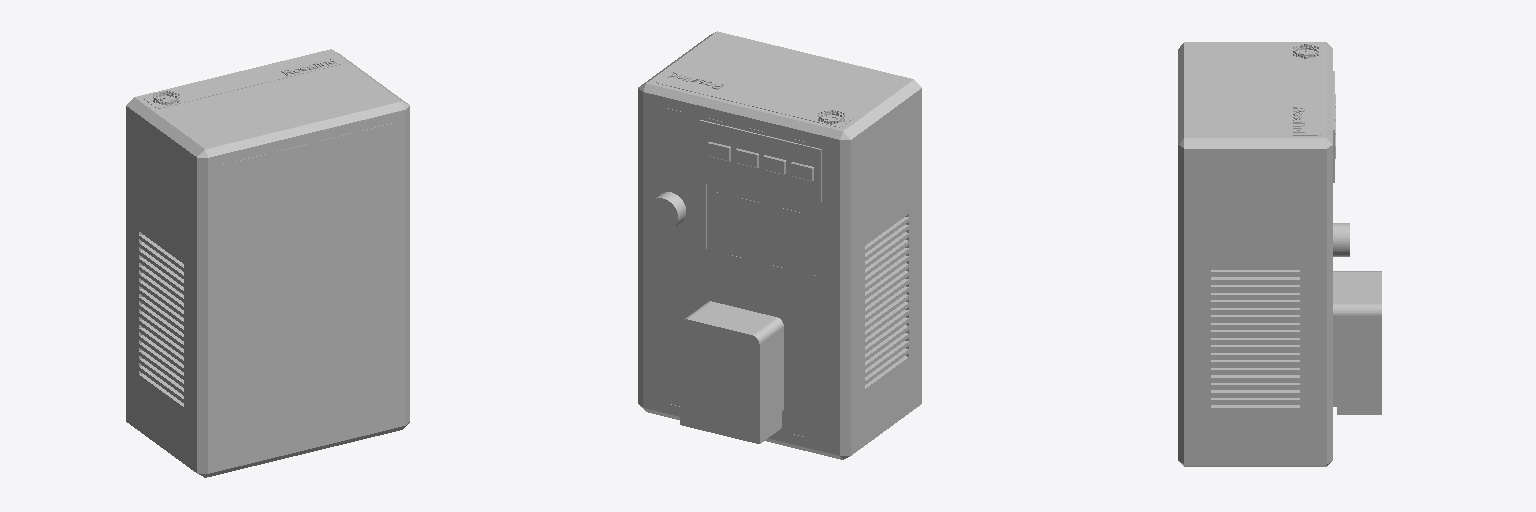
File: rosalind_objseteisson.obj
The picture shows the model from 3 angles: view 1: azimuth 30°, elevation 25°; view 2: azimuth 150°, elevation 25°; view 3: azimuth 270°, elevation 25°; orthographic projection.
Parts seen in each view (by area): view 1: Mesh48 G_3DGeom_1 Horus_10_typeMesh4 SimLab_2019_05_30_12_55_07_, Mesh10 G_3DGeom_1 Horus_10_typeMesh4 SimLab_2019_05_30_12_55_07_, Mesh28 G_3DGeom_1 Horus_10_typeMesh4 SimLab_2019_05_30_12_55_07_; view 2: Mesh10 G_3DGeom_1 Horus_10_typeMesh4 SimLab_2019_05_30_12_55_07_, Mesh48 G_3DGeom_1 Horus_10_typeMesh4 SimLab_2019_05_30_12_55_07_, Mesh13 G_3DGeom_1 Horus_10_typeMesh4 SimLab_2019_05_30_12_55_07_, Mesh15 G_3DGeom_1 Horus_10_typeMesh4 SimLab_2019_05_30_12_55_07_, Mesh47 G_3DGeom_1 Horus_10_typeMesh4 SimLab_2019_05_30_12_55_07_, Mesh28 G_3DGeom_1 Horus_10_typeMesh4 SimLab_2019_05_30_12_55_07_, Mesh46 G_3DGeom_1 Horus_10_typeMesh4 SimLab_2019_05_30_12_55_07_, Mesh49 G_3DGeom_1 Horus_10_typeMesh4 SimLab_2019_05_30_12_55_07_; view 3: Mesh10 G_3DGeom_1 Horus_10_typeMesh4 SimLab_2019_05_30_12_55_07_, Mesh13 G_3DGeom_1 Horus_10_typeMesh4 SimLab_2019_05_30_12_55_07_, Mesh28 G_3DGeom_1 Horus_10_typeMesh4 SimLab_2019_05_30_12_55_07_, Mesh49 G_3DGeom_1 Horus_10_typeMesh4 SimLab_2019_05_30_12_55_07_.
Part boxes in pixels (x1,y1,x2,y2): Mesh48 G_3DGeom_1 Horus_10_typeMesh4 SimLab_2019_05_30_12_55_07_: (219, 122, 396, 460); Mesh10 G_3DGeom_1 Horus_10_typeMesh4 SimLab_2019_05_30_12_55_07_: (126, 49, 409, 477); Mesh28 G_3DGeom_1 Horus_10_typeMesh4 SimLab_2019_05_30_12_55_07_: (144, 53, 341, 108); Mesh10 G_3DGeom_1 Horus_10_typeMesh4 SimLab_2019_05_30_12_55_07_: (638, 31, 921, 459); Mesh48 G_3DGeom_1 Horus_10_typeMesh4 SimLab_2019_05_30_12_55_07_: (651, 104, 828, 442); Mesh13 G_3DGeom_1 Horus_10_typeMesh4 SimLab_2019_05_30_12_55_07_: (680, 301, 783, 443); Mesh15 G_3DGeom_1 Horus_10_typeMesh4 SimLab_2019_05_30_12_55_07_: (700, 120, 821, 202); Mesh47 G_3DGeom_1 Horus_10_typeMesh4 SimLab_2019_05_30_12_55_07_: (715, 192, 809, 268); Mesh28 G_3DGeom_1 Horus_10_typeMesh4 SimLab_2019_05_30_12_55_07_: (656, 72, 853, 127); Mesh46 G_3DGeom_1 Horus_10_typeMesh4 SimLab_2019_05_30_12_55_07_: (707, 184, 817, 275); Mesh49 G_3DGeom_1 Horus_10_typeMesh4 SimLab_2019_05_30_12_55_07_: (648, 192, 685, 229); Mesh10 G_3DGeom_1 Horus_10_typeMesh4 SimLab_2019_05_30_12_55_07_: (1178, 42, 1332, 466); Mesh13 G_3DGeom_1 Horus_10_typeMesh4 SimLab_2019_05_30_12_55_07_: (1333, 271, 1381, 414); Mesh28 G_3DGeom_1 Horus_10_typeMesh4 SimLab_2019_05_30_12_55_07_: (1290, 44, 1320, 135); Mesh49 G_3DGeom_1 Horus_10_typeMesh4 SimLab_2019_05_30_12_55_07_: (1333, 223, 1349, 256).
Size of the model in its own units: 39.37 by 59.41 by 32.55.